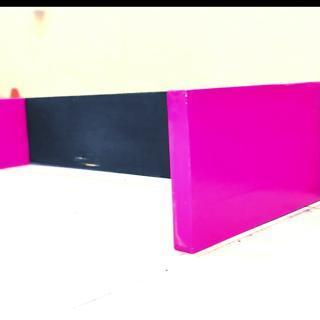xparking: (170, 87, 320, 225), (1, 100, 27, 168)
